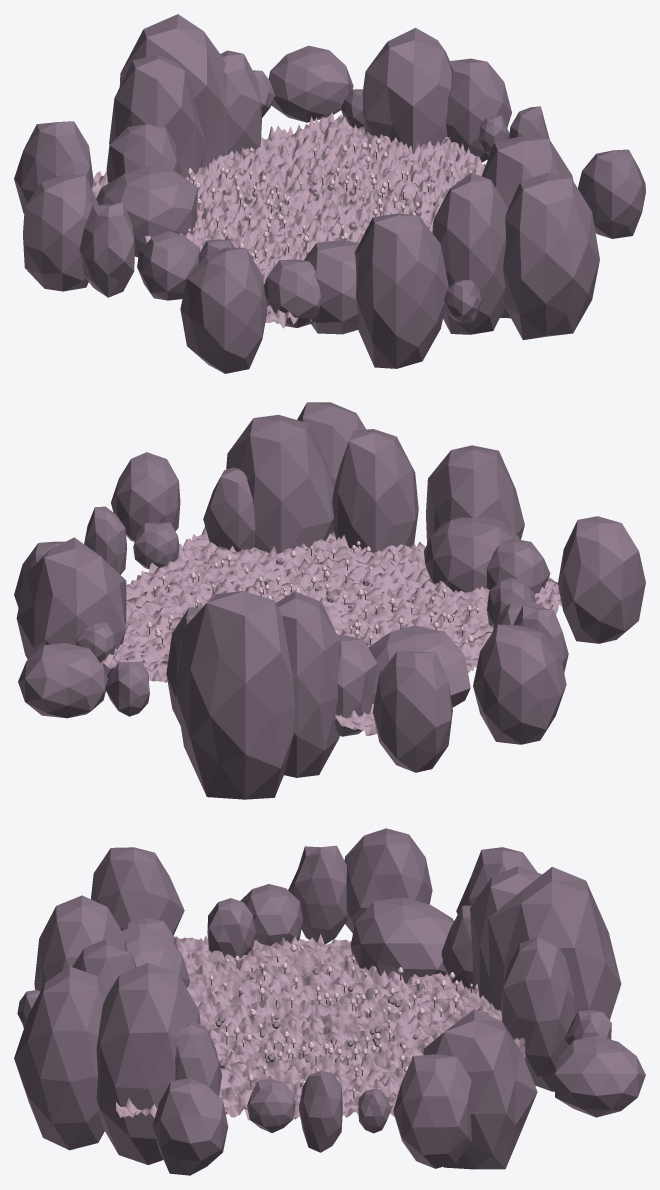
File: sakura-blooms.gltf
3 views of the same model, one above another, from view 1: azimuth 30°, elevation 25°; view 2: azimuth 150°, elevation 25°; view 3: azimuth 270°, elevation 25° (orthographic). The views are drawn at different scales.
Size of the model in its own units: 379 by 134 by 370.
